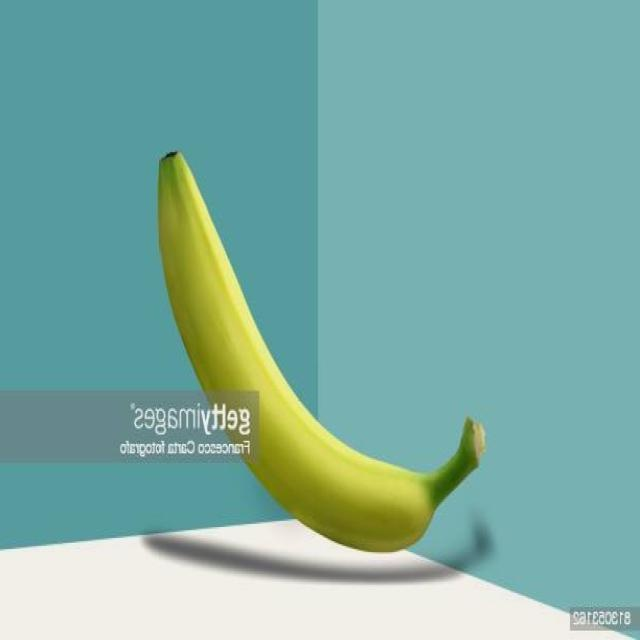agrume: (153, 147, 487, 555)
